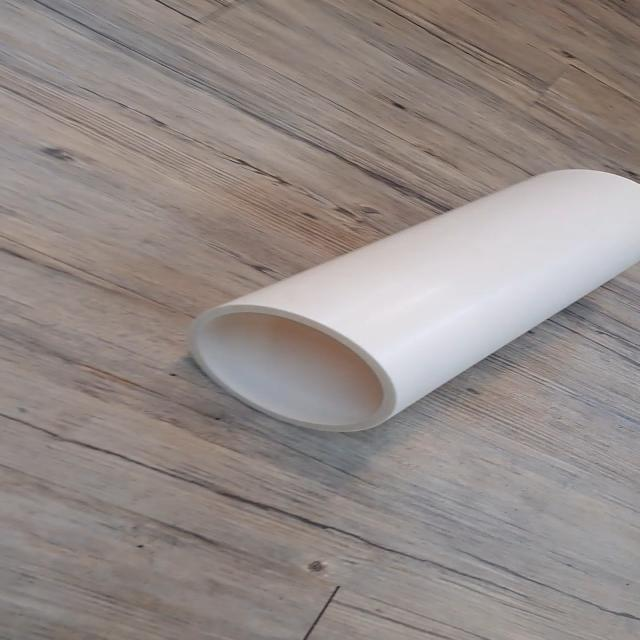CORAL: (172, 155, 640, 436)
